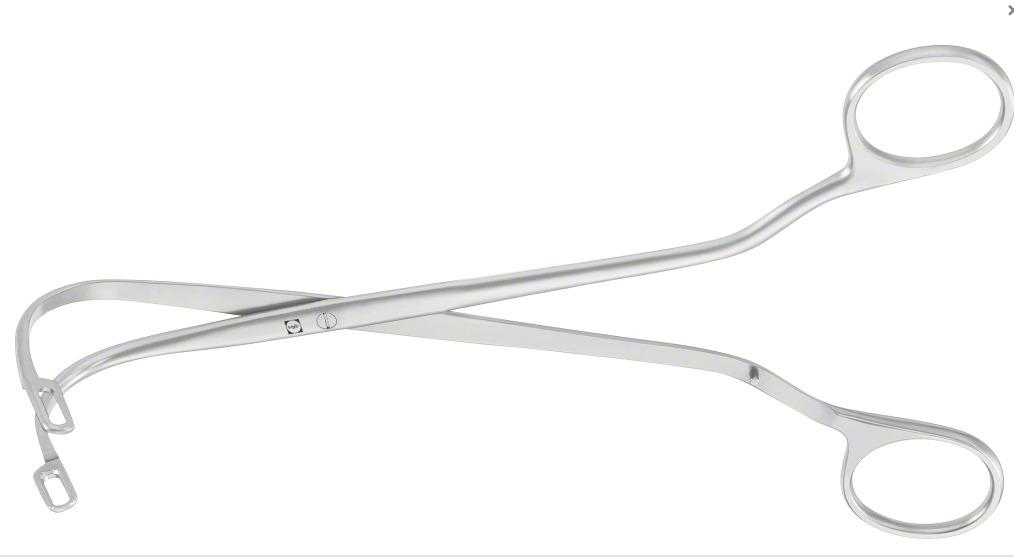Randall: (8, 42, 1003, 536)
